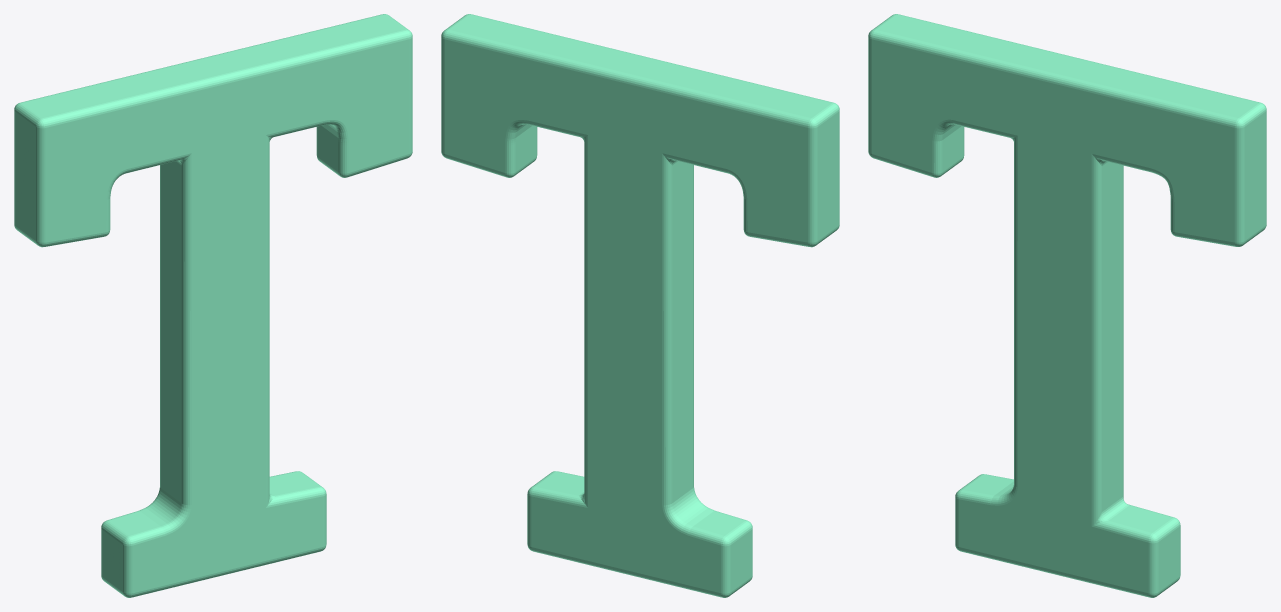
3 renders of one model, left to right at view 1: azimuth 30°, elevation 25°; view 2: azimuth 150°, elevation 25°; view 3: azimuth 330°, elevation 25°, orthographic.
Visible parts, largest first — view 1: 텍스트; view 2: 텍스트; view 3: 텍스트.
Boxes of the visible parts, <box> form: 텍스트: <box>14,14,412,597</box>; 텍스트: <box>441,14,839,597</box>; 텍스트: <box>868,14,1266,597</box>.
Size of the model in its own units: 0.3851 by 0.4897 by 0.05.
